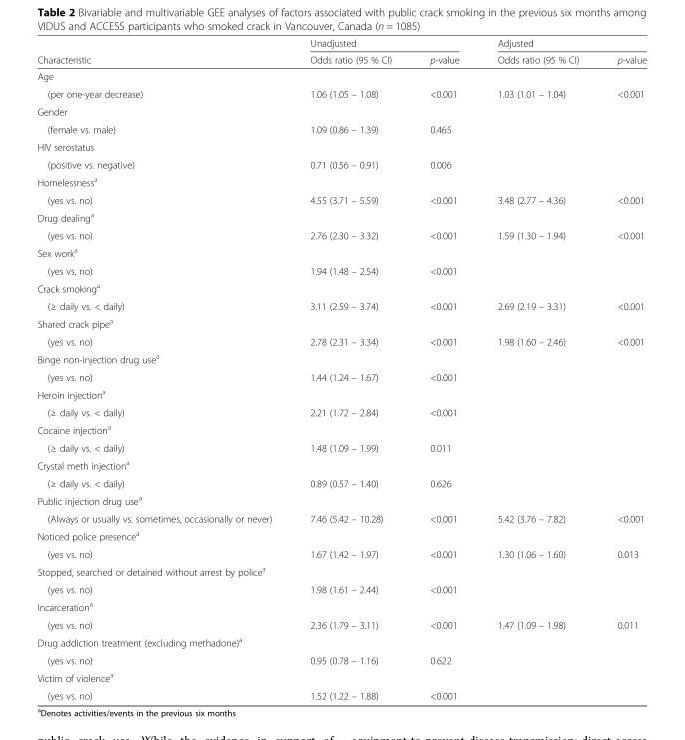table: (36, 37, 646, 701)
table column: (36, 37, 290, 701), (290, 37, 410, 701), (477, 37, 597, 701), (410, 37, 477, 701), (597, 37, 646, 701)
table column header: (36, 37, 646, 67)
table projected row header: (36, 207, 646, 226), (36, 278, 646, 297), (36, 384, 646, 403), (36, 455, 646, 474), (36, 526, 646, 545), (36, 561, 646, 580), (36, 632, 646, 651), (36, 102, 646, 120), (36, 137, 646, 155), (36, 172, 646, 190), (36, 243, 646, 261), (36, 314, 646, 332), (36, 349, 646, 367), (36, 420, 646, 438), (36, 491, 646, 509), (36, 597, 646, 615), (36, 668, 646, 686), (36, 67, 646, 84)
table row: (36, 207, 646, 226), (36, 278, 646, 297), (36, 384, 646, 403), (36, 455, 646, 474), (36, 526, 646, 545), (36, 561, 646, 580), (36, 632, 646, 651), (36, 84, 646, 102), (36, 102, 646, 120), (36, 137, 646, 155), (36, 172, 646, 190), (36, 243, 646, 261), (36, 314, 646, 332), (36, 349, 646, 367), (36, 420, 646, 438), (36, 491, 646, 509), (36, 597, 646, 615), (36, 668, 646, 686), (36, 50, 646, 67), (36, 67, 646, 84), (36, 120, 646, 137), (36, 155, 646, 172), (36, 190, 646, 207), (36, 226, 646, 243), (36, 261, 646, 278), (36, 297, 646, 314), (36, 332, 646, 349), (36, 367, 646, 384), (36, 403, 646, 420), (36, 438, 646, 455), (36, 474, 646, 491), (36, 509, 646, 526), (36, 580, 646, 597), (36, 615, 646, 632), (36, 651, 646, 668), (36, 545, 646, 561), (36, 686, 646, 701), (36, 37, 646, 50)
table spanning cell: (36, 37, 290, 67), (290, 37, 477, 50), (477, 37, 646, 50)
